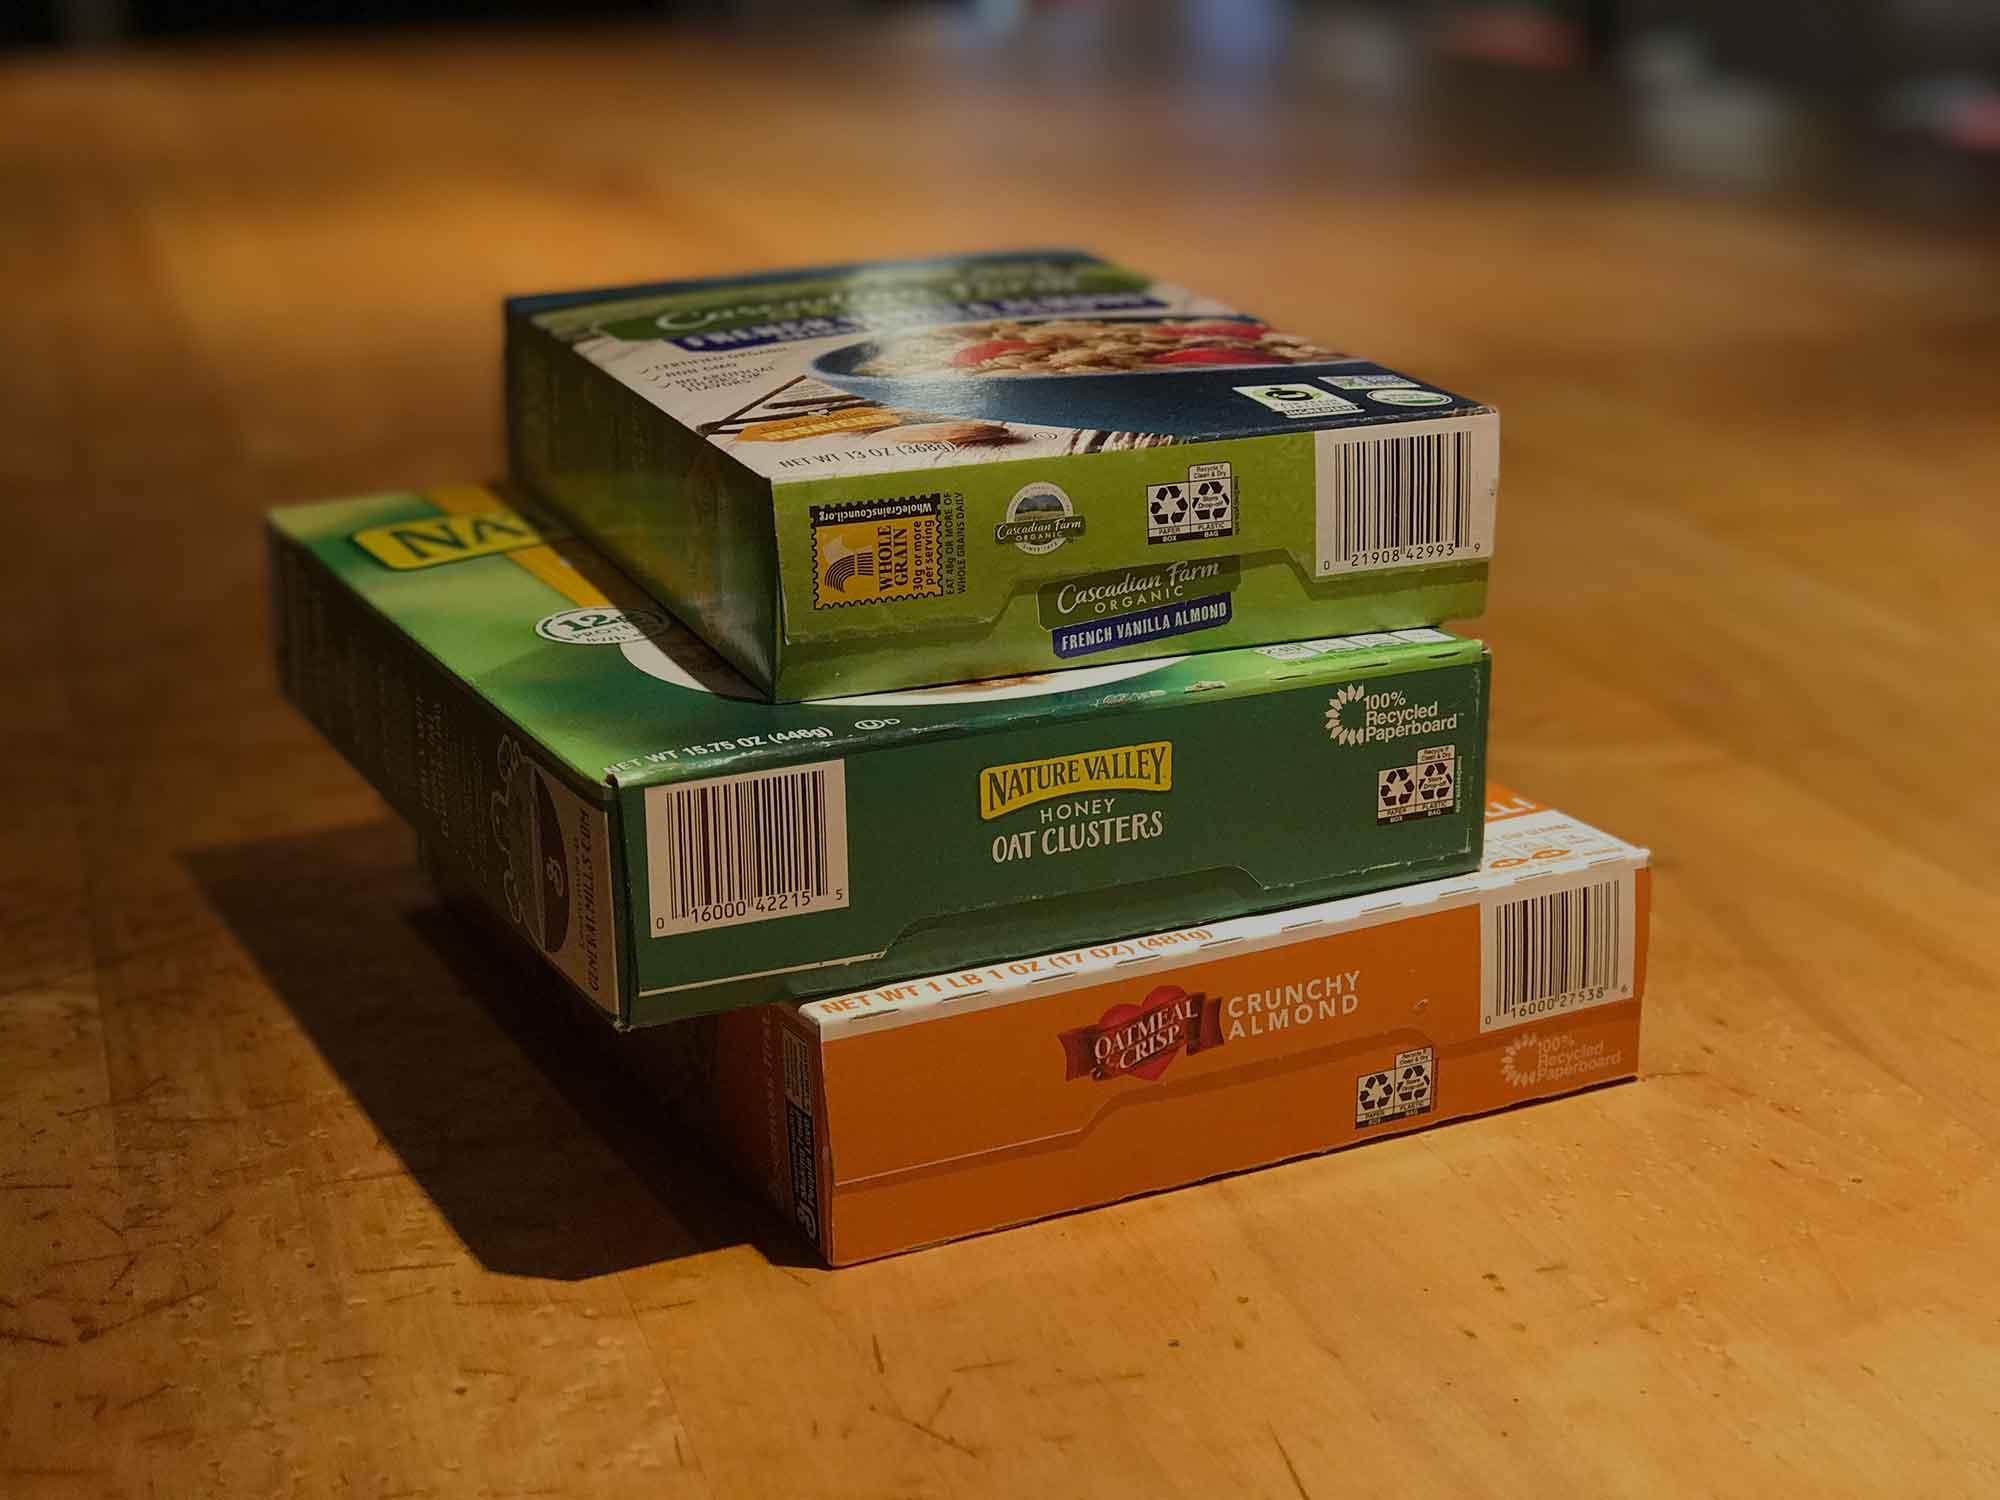cardboard: (274, 249, 1498, 1242)
